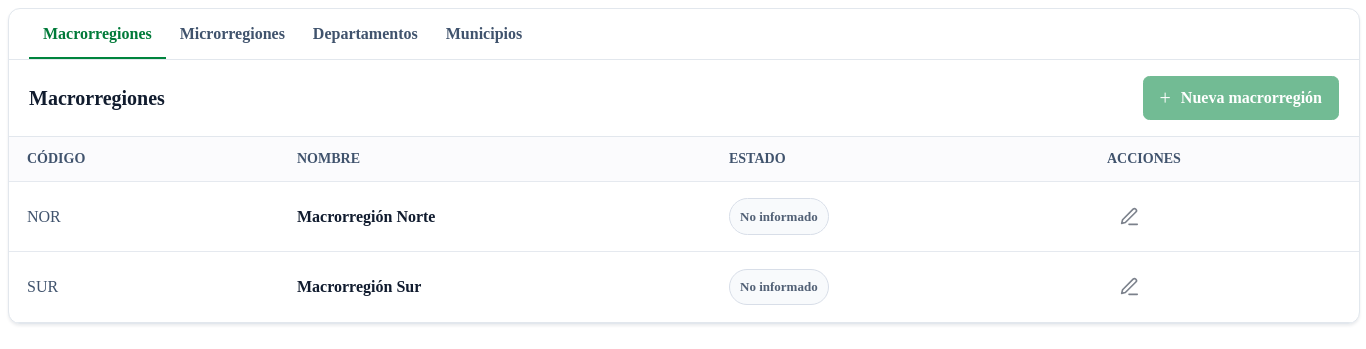
Test: GeographyHierarchy › permite quitar el filtro padre con Ver todos
Click the button "Macrorregión Norte".
click(366, 216)  # box [297, 202, 436, 232]
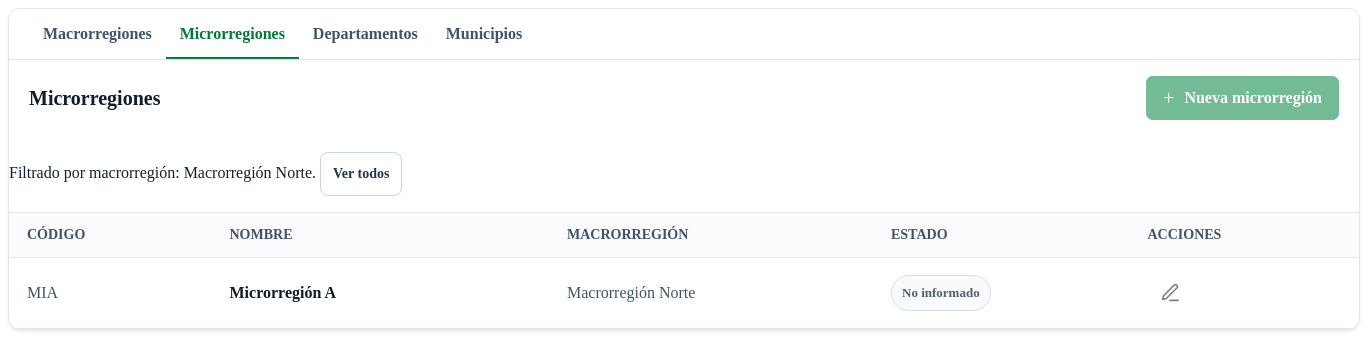
Now the text "Filtrado por macrorregión: Macrorregión Norte. Ver todos" is shown, box [9, 152, 402, 196]
Click the button "Ver todos".
click(361, 174)  # box [320, 152, 402, 196]
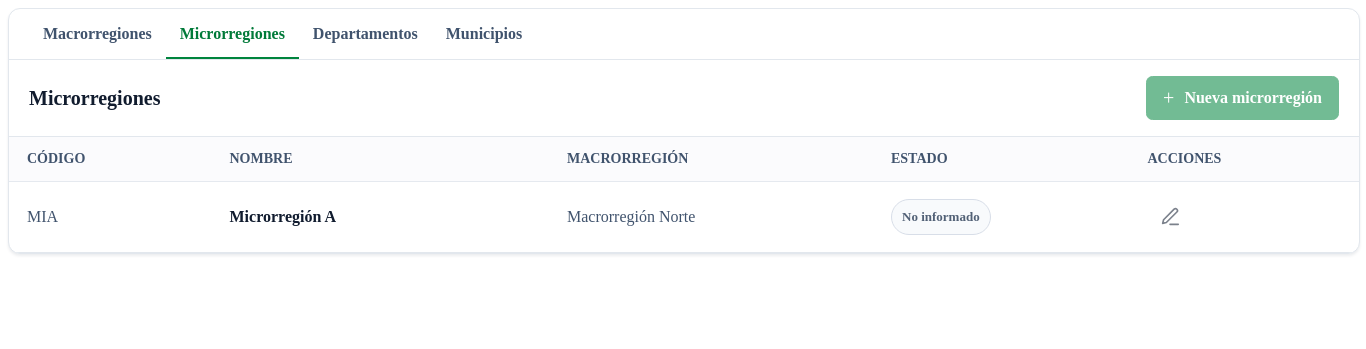
Now the button "Microrregión A" is shown, box [230, 202, 336, 232]
Now the text "Filtrado por macrorregión" is gone
